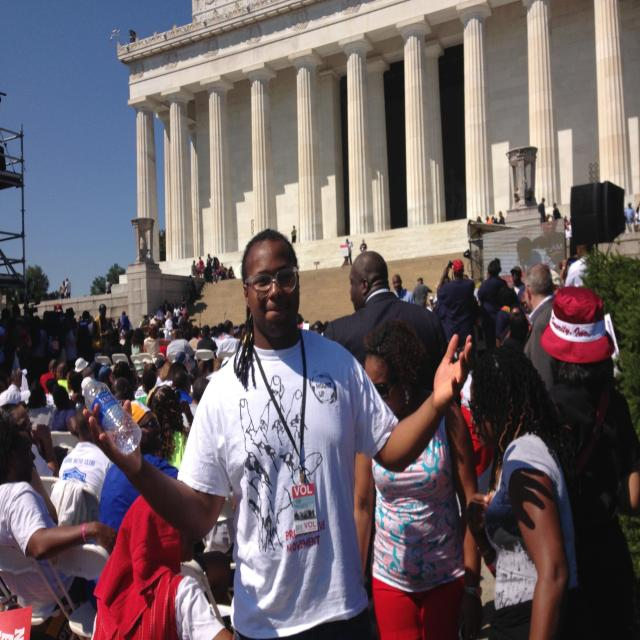body: (77, 221, 482, 640), (1, 260, 598, 421), (351, 313, 483, 640), (460, 340, 589, 640), (538, 284, 640, 640), (0, 422, 123, 640), (0, 420, 119, 612), (323, 249, 462, 408), (89, 492, 236, 640), (476, 193, 640, 260), (97, 407, 182, 534), (520, 260, 576, 449), (176, 498, 243, 584), (58, 405, 114, 504), (197, 583, 238, 640), (166, 328, 198, 384), (142, 322, 172, 364), (196, 324, 218, 374), (216, 320, 240, 364), (131, 328, 145, 377), (186, 274, 197, 304), (210, 257, 219, 284), (344, 239, 353, 265), (198, 256, 205, 279), (64, 278, 72, 298), (214, 258, 220, 284), (59, 281, 67, 299), (190, 260, 198, 278), (359, 238, 368, 254), (104, 278, 112, 294), (291, 225, 297, 244), (206, 253, 213, 267), (196, 263, 200, 278)
